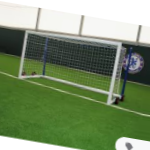goals: (15, 26, 127, 110)
